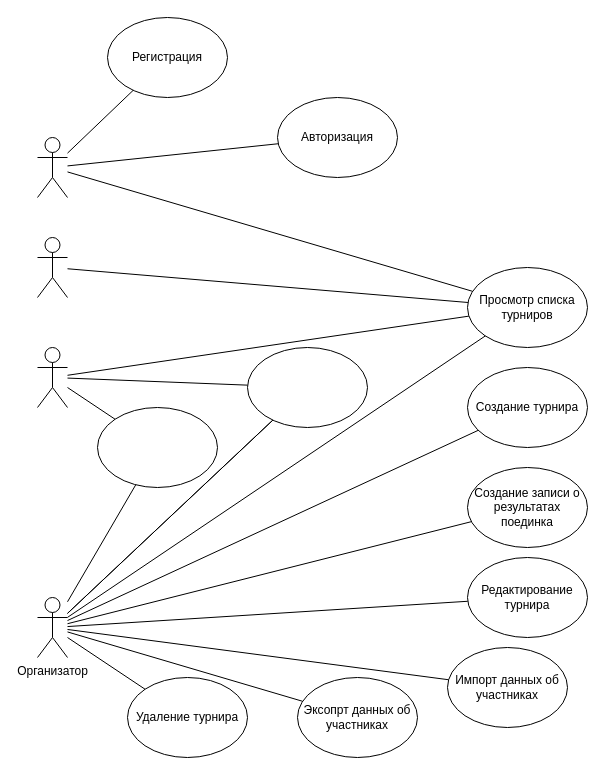
This 605x775 diagram has some shape labels left out. Each missing label, with the centre of its shape:
"Гость" belongs at (x=52, y=167).
"Редактирование записи о результатах поединка" belongs at (x=307, y=387).
"Судья" belongs at (x=52, y=377).
"Удаление записи о результатах поединка" belongs at (x=157, y=447).
"Участник" belongs at (x=52, y=267).
